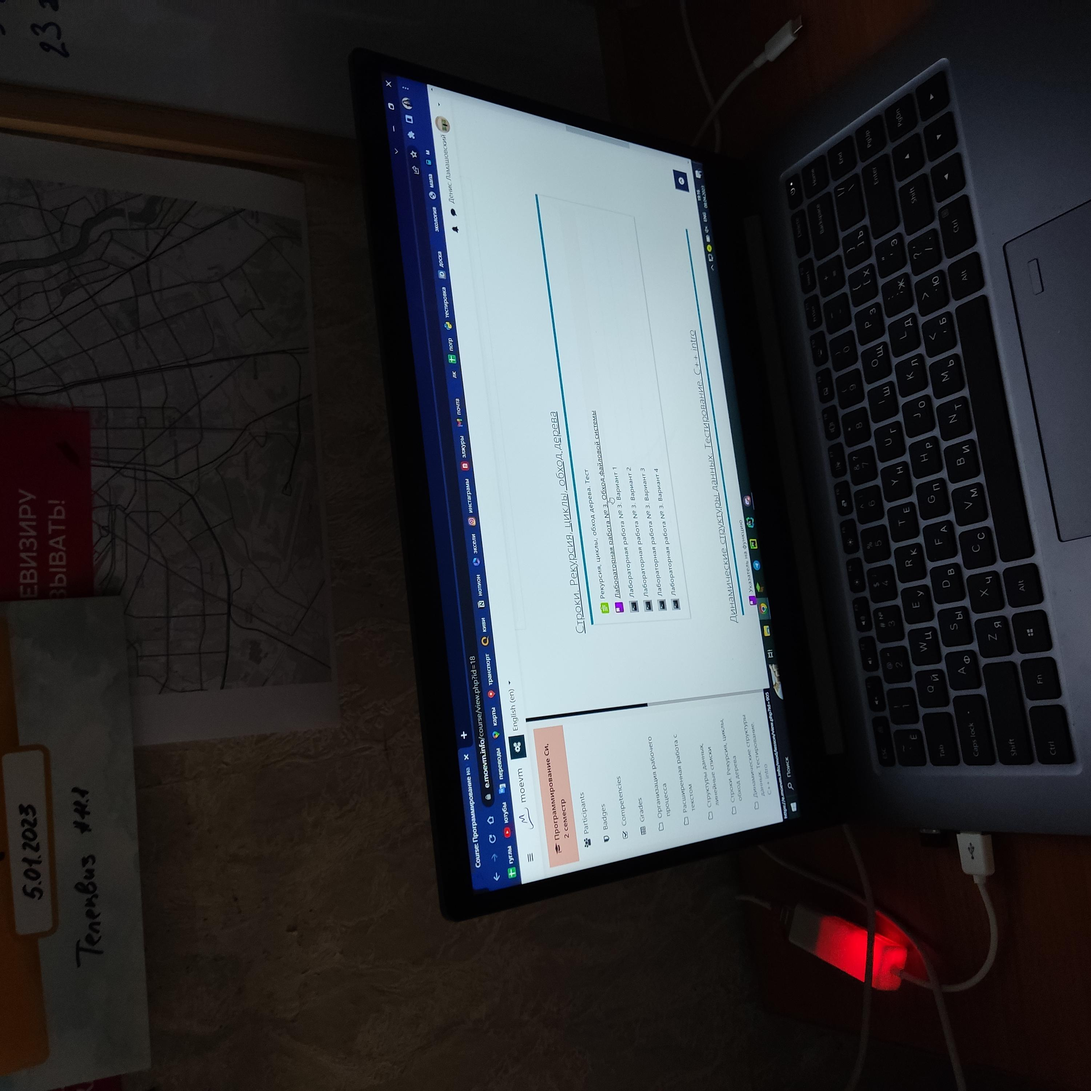monitor: (165, 345, 1049, 850)
